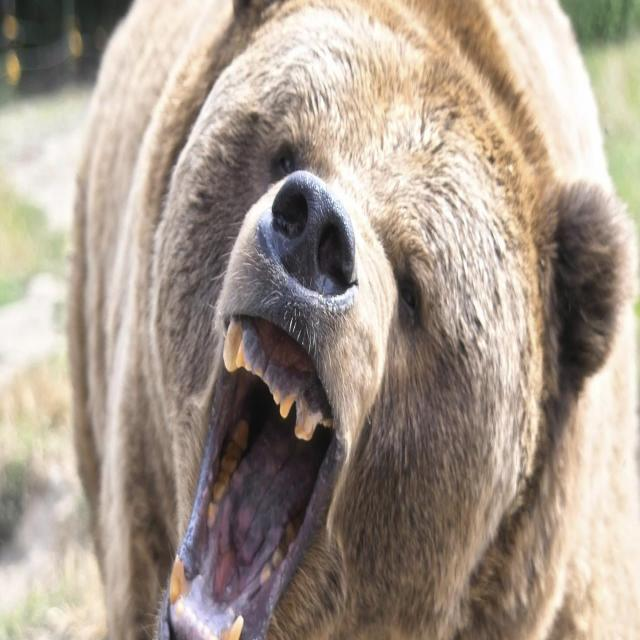Bear: (70, 0, 640, 640)
